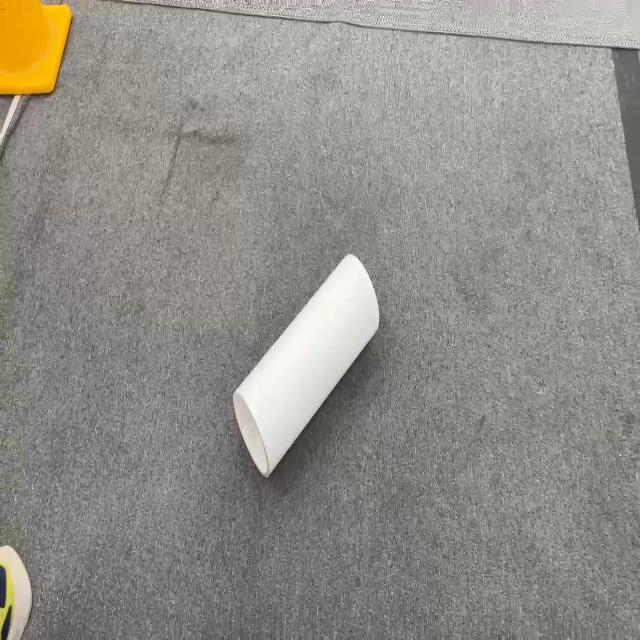coral: (232, 252, 380, 478)
